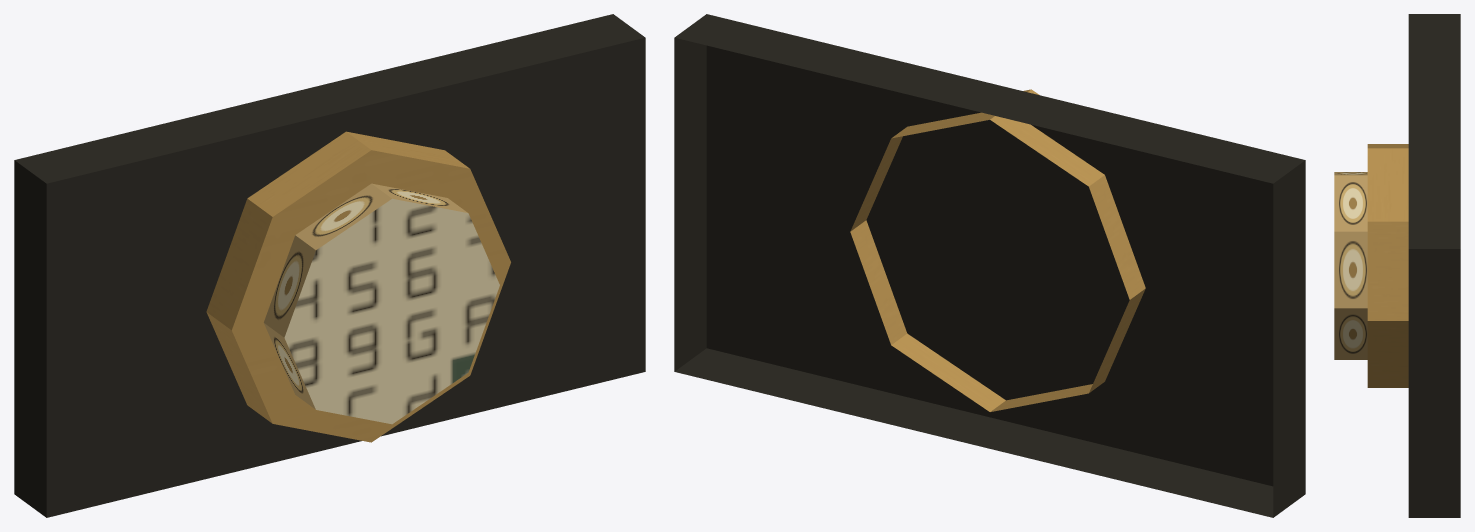
Rendered from elevator_button_70s.glb.
3 renders of one model, left to right at view 1: azimuth 30°, elevation 25°; view 2: azimuth 150°, elevation 25°; view 3: azimuth 270°, elevation 25°, orthographic. The views are drawn at different scales.
Parts seen in each view (by area): view 1: elevator_button_70s; view 2: elevator_button_70s; view 3: elevator_button_70s.
Boxes of the visible parts, left/top/right/bottom form: elevator_button_70s: left=14, top=14, right=645, bottom=517; elevator_button_70s: left=674, top=14, right=1305, bottom=517; elevator_button_70s: left=1334, top=14, right=1460, bottom=517.
Bounding box in the file's own units: 0.15 × 0.08 × 0.034.
1 material, 1 textured.
